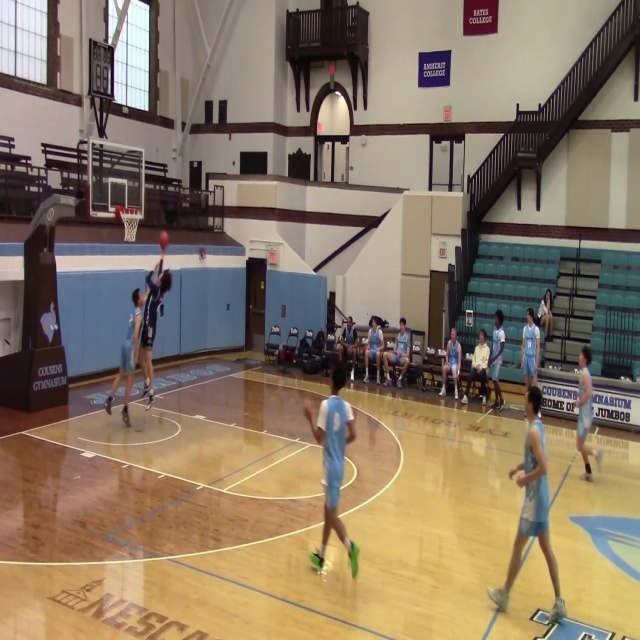Basketball: (159, 231, 169, 250)
